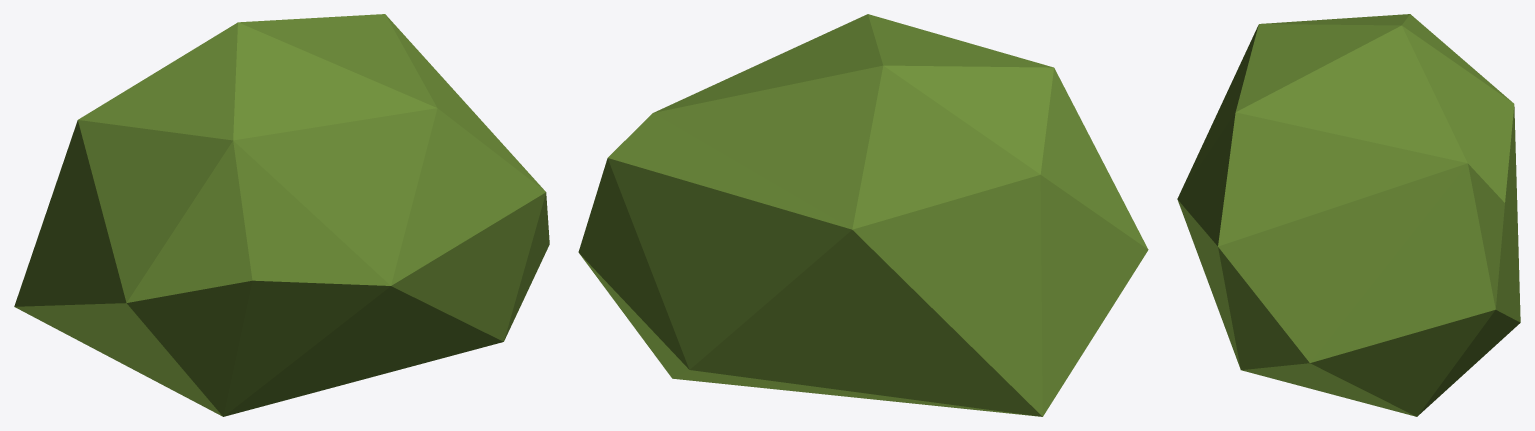
Rendered from Bush_04.glb.
3 renders of one model, left to right at view 1: azimuth 30°, elevation 25°; view 2: azimuth 150°, elevation 25°; view 3: azimuth 270°, elevation 25°, orthographic. The views are drawn at different scales.
Parts seen in each view (by area): view 1: Bush_04_LOD0; view 2: Bush_04_LOD0; view 3: Bush_04_LOD0.
Boxes of the visible parts, x1=… form: Bush_04_LOD0: x1=14, y1=14, x2=549, y2=416; Bush_04_LOD0: x1=578, y1=14, x2=1148, y2=416; Bush_04_LOD0: x1=1177, y1=14, x2=1520, y2=416.
Size of what is drawn, in the model's own units: 0.5195 by 0.3768 by 0.3825.
1 material, 1 textured.
